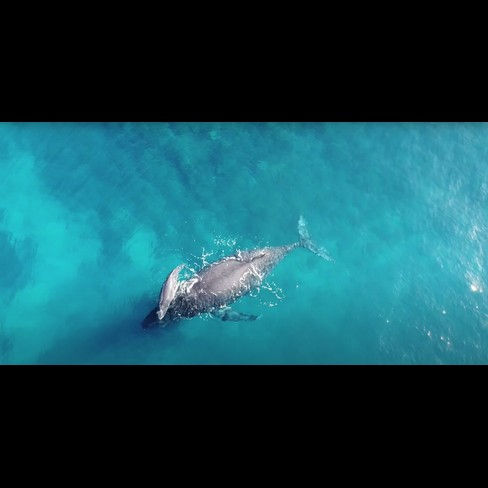hump: (137, 211, 335, 339), (153, 261, 185, 321)
